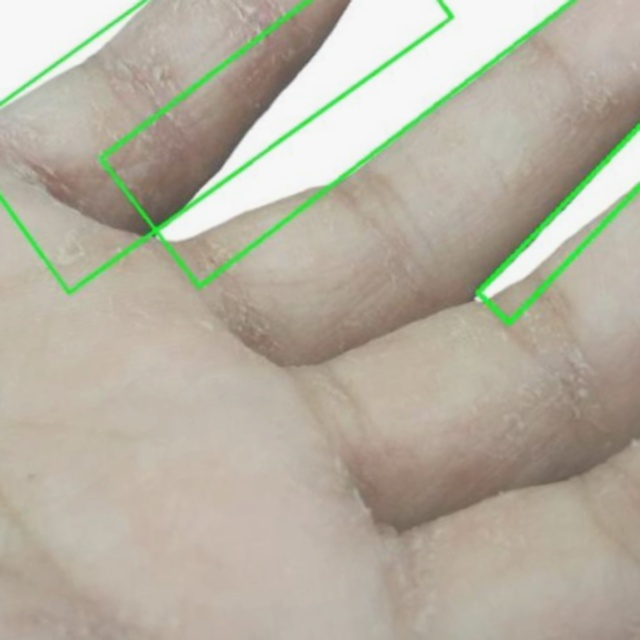Scabies: (101, 0, 575, 287), (0, 0, 452, 293), (479, 128, 639, 323)
